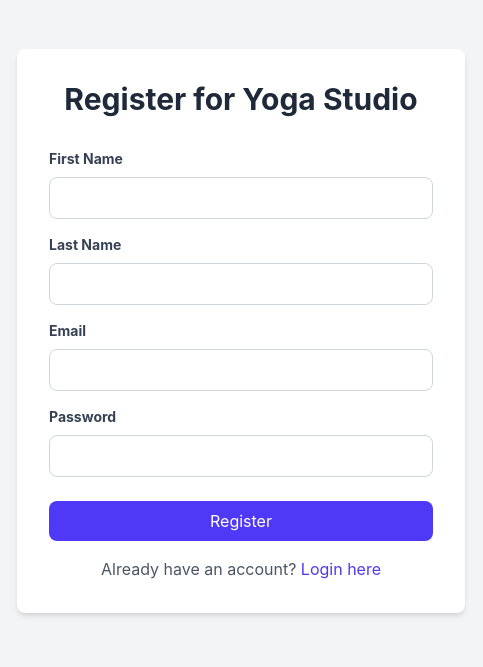
Test case: Register › erreurs › affiche un message erreur si l'inscription échoue
Type "Test" into the field named "firstName" below "First Name" at (241, 198), box [49, 177, 433, 219]
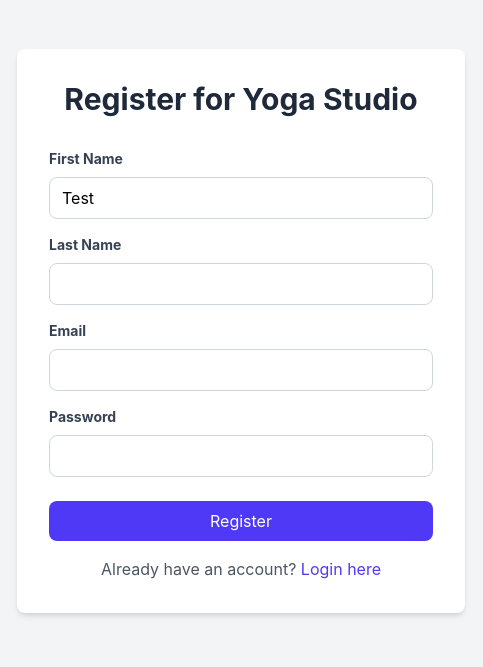
Type "User" into the field named "lastName" below "Last Name" at (241, 284), box [49, 263, 433, 305]
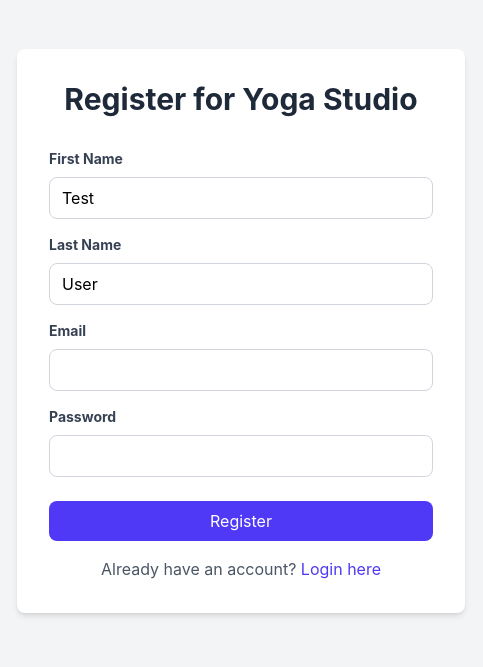
Type "user@test.com" into the field named "email" below "Email" at (241, 370), box [49, 349, 433, 391]
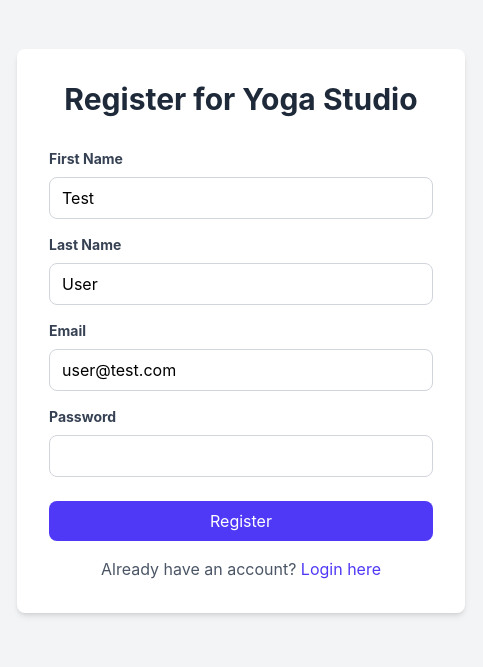
Type "password123" into the password field named "password" at (241, 456), box [49, 435, 433, 477]
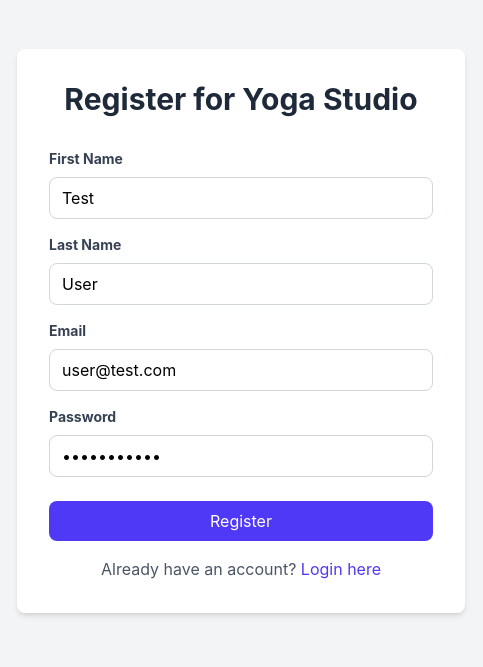
Click the button "Register" at (241, 521), box [49, 501, 433, 541]
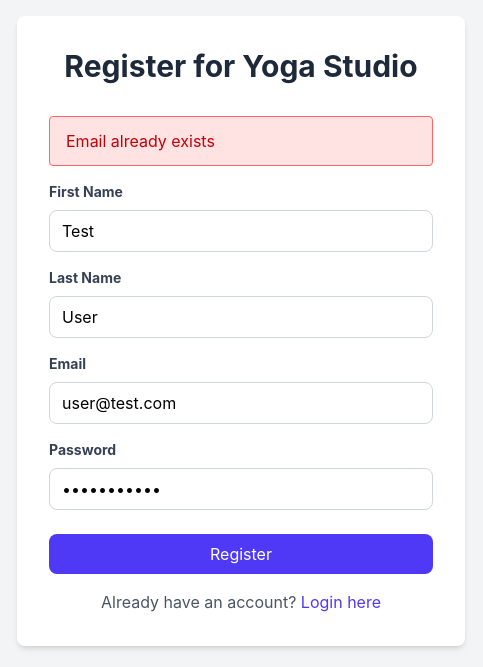
Check: the text "Email already exists" is shown, box [49, 116, 433, 166]
